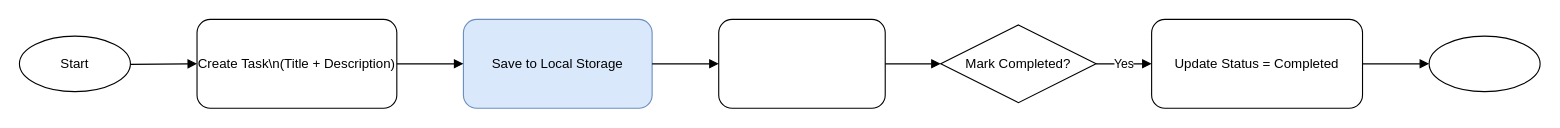
The diagram is 1560 pixels wide and 128 high, and some of its shapes have lost their labels. The shapes that lost their labels are listed below. From the top down, each one's centre as x and y in pixels, then its label:
the point at 801,63: View All Tasks
the point at 1484,63: End
